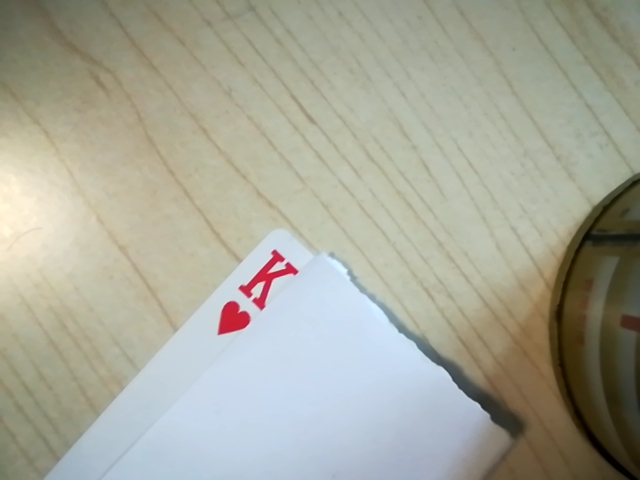hx k: (207, 249, 305, 340)
